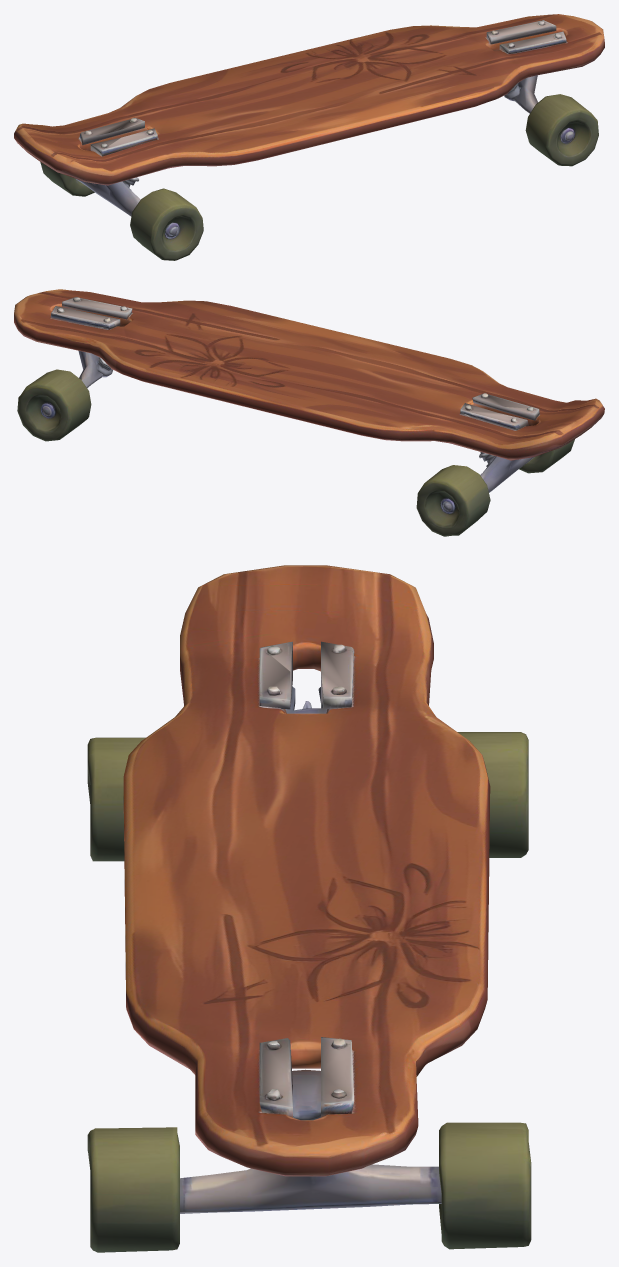
The model's file is skateboard.glb.
The picture shows the model from 3 angles, top to bottom: view 1: azimuth 30°, elevation 25°; view 2: azimuth 150°, elevation 25°; view 3: azimuth 270°, elevation 25°; orthographic projection. The views are drawn at different scales.
Visible parts, largest first — view 1: tripo_node_16b47ad6-aed4-46ea-a848-94b7bf2bbeab; view 2: tripo_node_16b47ad6-aed4-46ea-a848-94b7bf2bbeab; view 3: tripo_node_16b47ad6-aed4-46ea-a848-94b7bf2bbeab.
Part boxes in pixels (bbox=[...]): tripo_node_16b47ad6-aed4-46ea-a848-94b7bf2bbeab: bbox=[14, 14, 604, 260]; tripo_node_16b47ad6-aed4-46ea-a848-94b7bf2bbeab: bbox=[14, 289, 604, 536]; tripo_node_16b47ad6-aed4-46ea-a848-94b7bf2bbeab: bbox=[87, 565, 531, 1252].
Size of the model in its own units: 0.998 by 0.1738 by 0.3379.
1 material, 1 textured.
